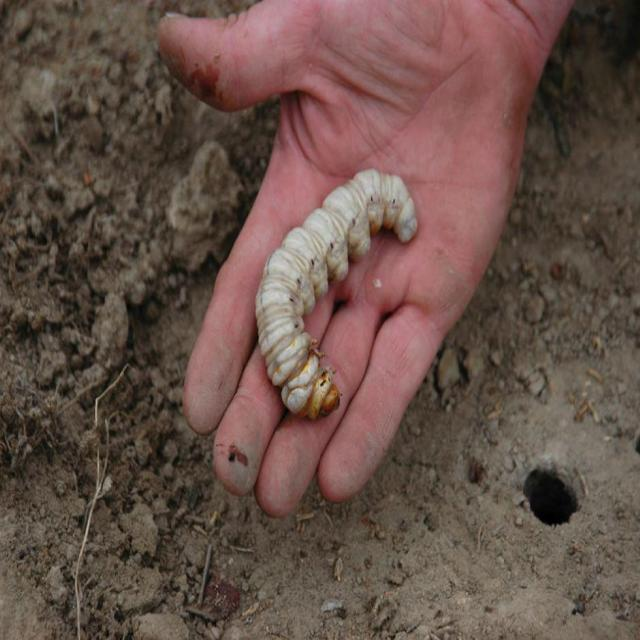Grub-Adult-: (251, 170, 421, 424)
